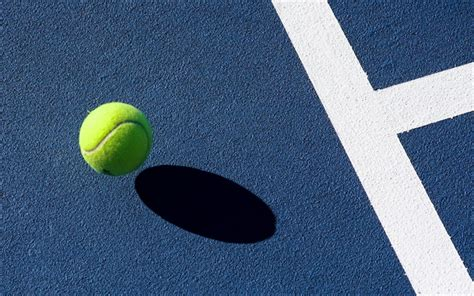tennis_ball: (78, 101, 154, 176)
